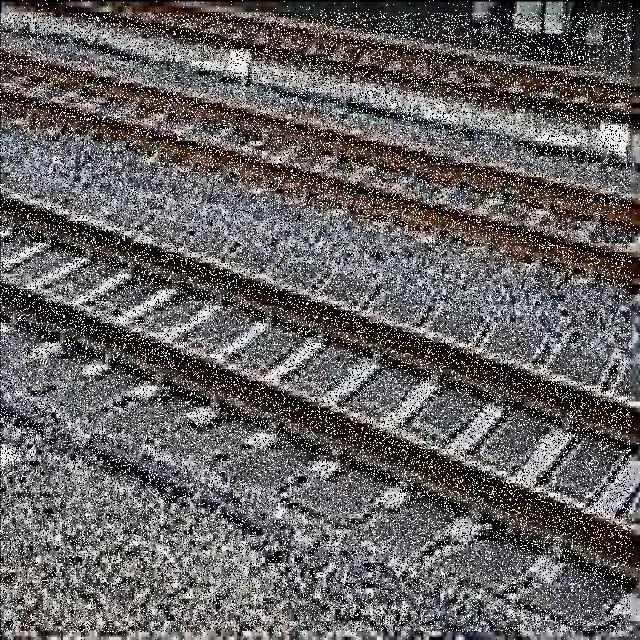rail: (0, 14, 631, 632)
